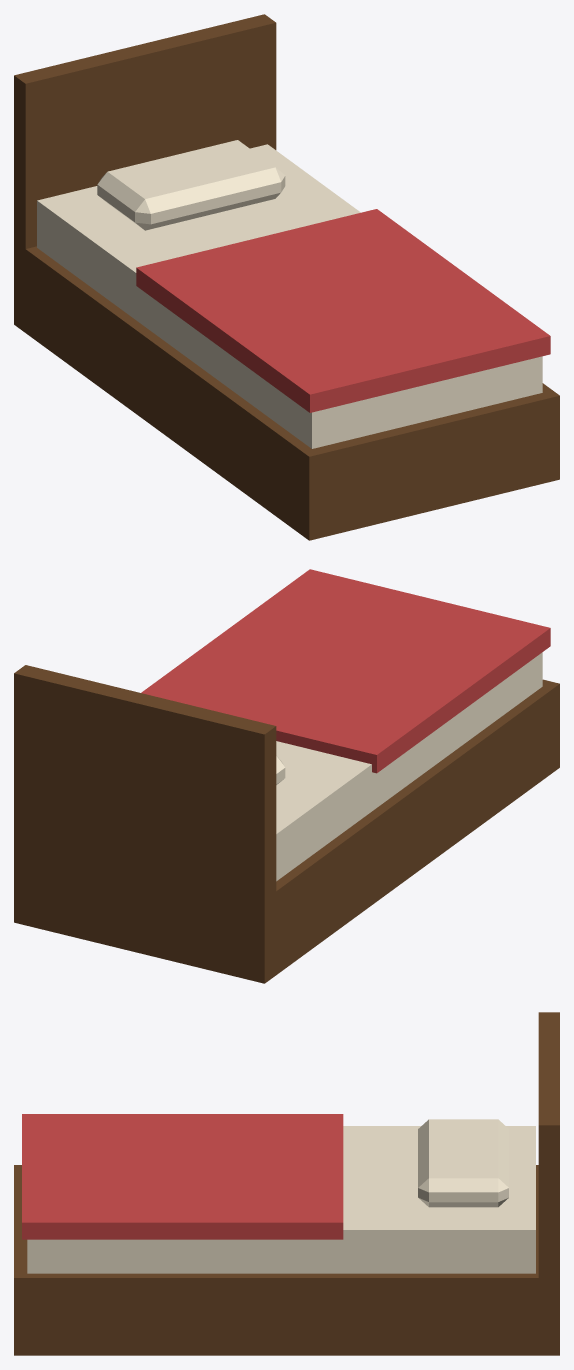
The model's file is bed.glb.
The picture shows the model from 3 angles, top to bottom: view 1: azimuth 30°, elevation 25°; view 2: azimuth 150°, elevation 25°; view 3: azimuth 270°, elevation 25°; orthographic projection. The views are drawn at different scales.
Parts seen in each view (by area): view 1: bed; view 2: bed; view 3: bed.
Part boxes in pixels (x1,y1,x2,y2): bed: (14,14,559,540); bed: (14,569,559,983); bed: (14,1012,559,1355).
Size of the model in its own units: 1 by 0.95 by 2.04.
